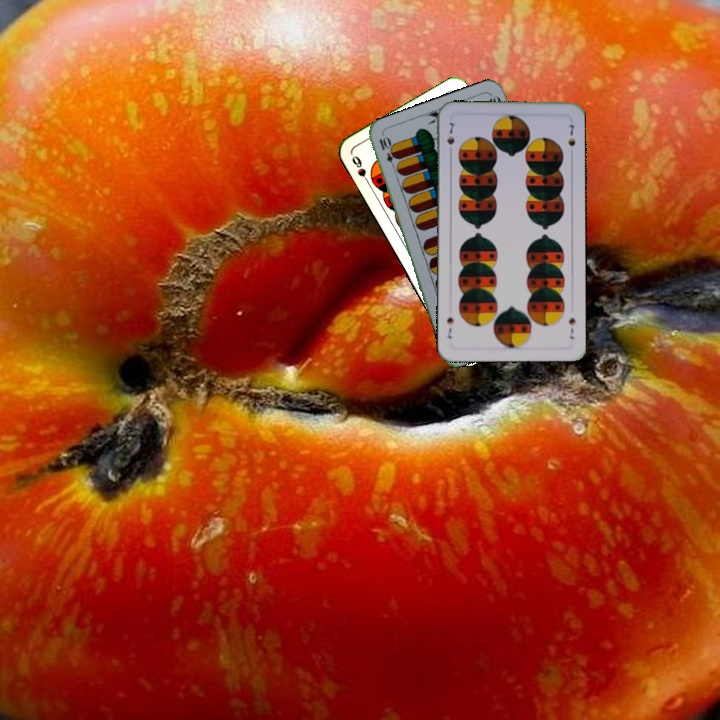E10: (375, 133, 399, 172)
S7: (443, 118, 457, 157), (565, 314, 578, 342)
S9: (348, 152, 373, 188)
